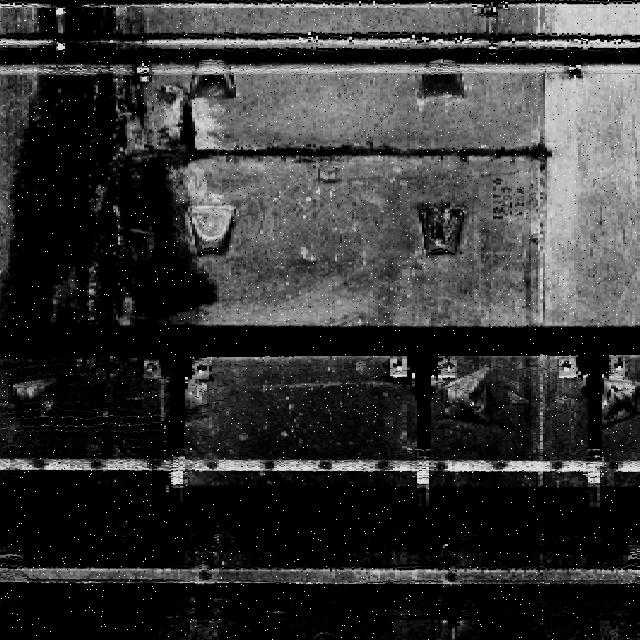leakage: (1, 1, 219, 321)
